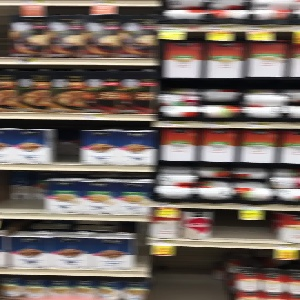void: (148, 242, 234, 300), (1, 168, 47, 218), (214, 206, 275, 240), (52, 119, 81, 167)
